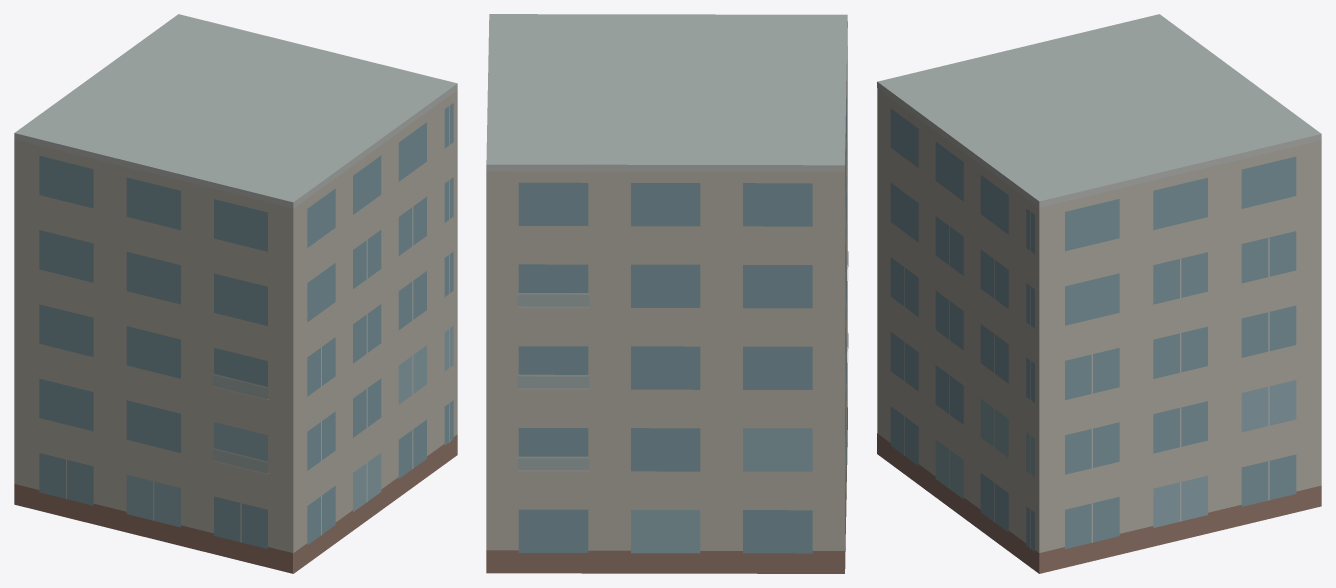
Rendered from survey-upis-32784295.glb.
3 renders of one model, left to right at view 1: azimuth 30°, elevation 25°; view 2: azimuth 150°, elevation 25°; view 3: azimuth 270°, elevation 25°, orthographic. The views are drawn at different scales.
Parts seen in each view (by area): view 1: survey-upis-32784295.tmp; view 2: survey-upis-32784295.tmp; view 3: survey-upis-32784295.tmp.
Boxes of the visible parts, <box> form: survey-upis-32784295.tmp: <box>14,14,457,573</box>; survey-upis-32784295.tmp: <box>486,14,848,573</box>; survey-upis-32784295.tmp: <box>877,14,1321,573</box>.
Bounding box in the file's own units: 15.56 × 14.4 × 15.58.
